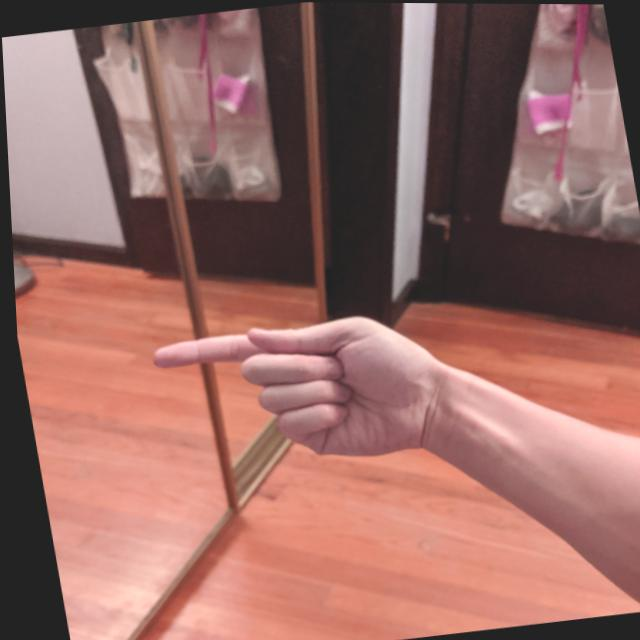G: (134, 300, 446, 486)
